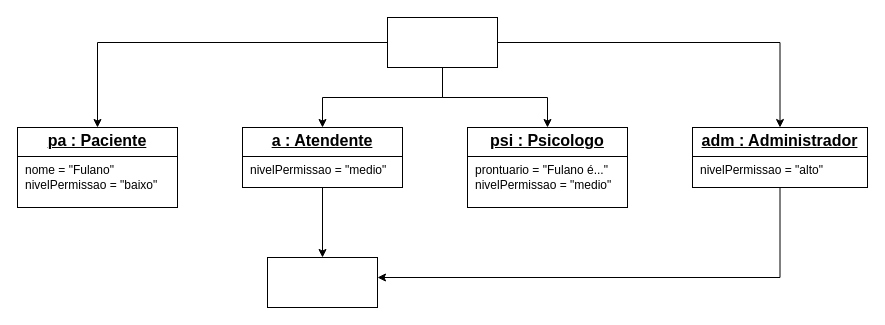
Image size: 885x325. Some labels were removed from this diagram. Each missing label, with the centre of its shape:
":Agenda" goes at (x=322, y=282).
"Pessoa" goes at (x=442, y=42).
